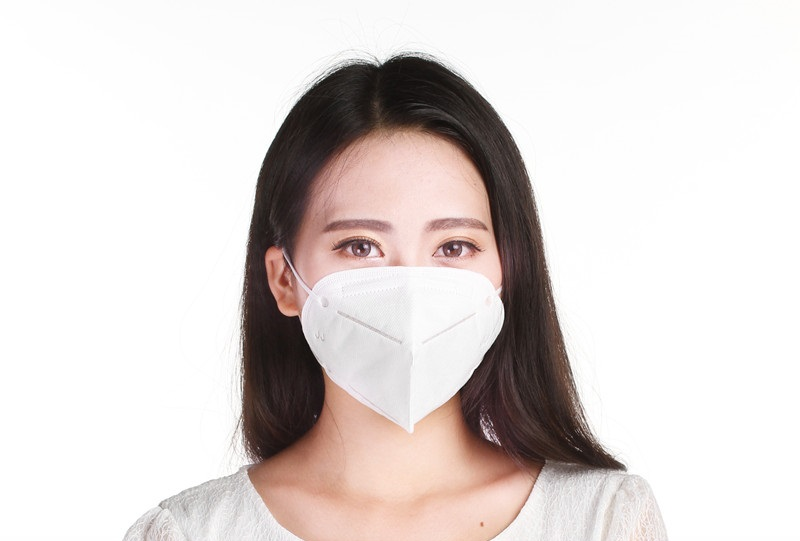face_mask: (294, 144, 503, 415)
